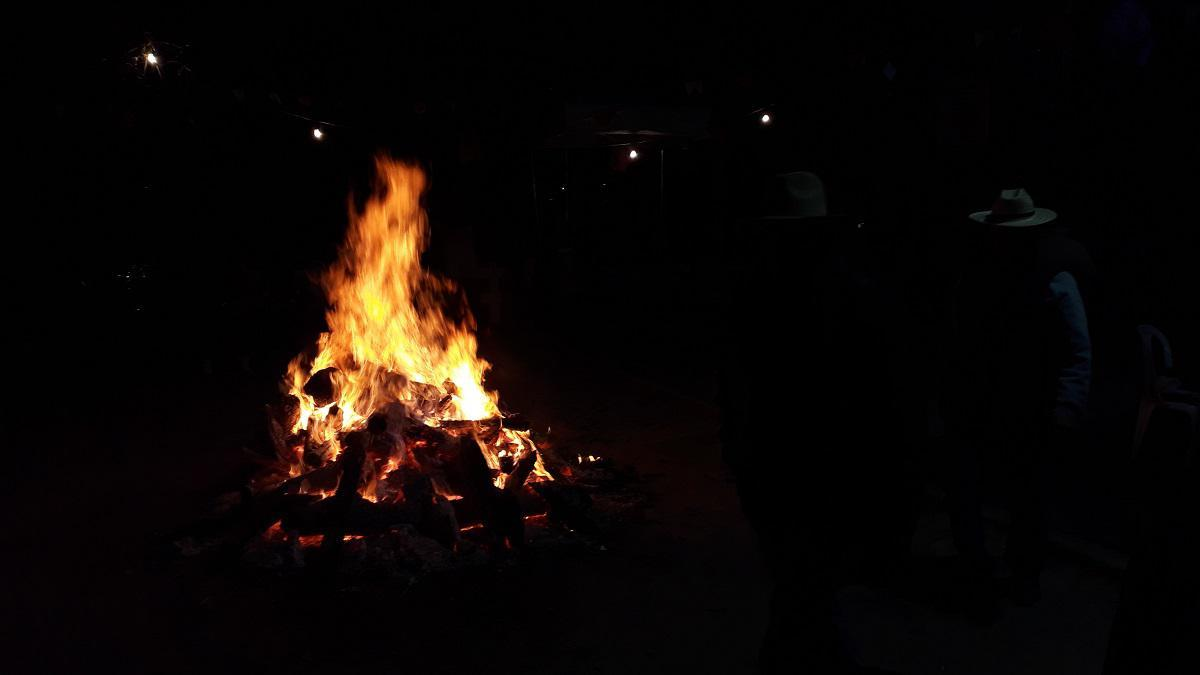Fire: (280, 153, 553, 511)
